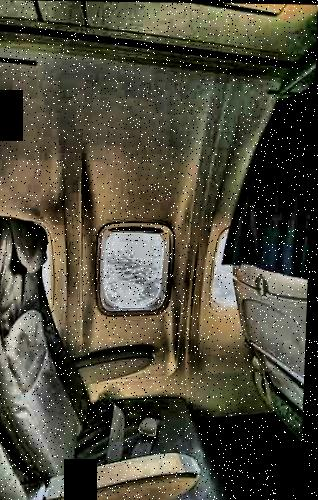seatbelt: (87, 367, 164, 452)
